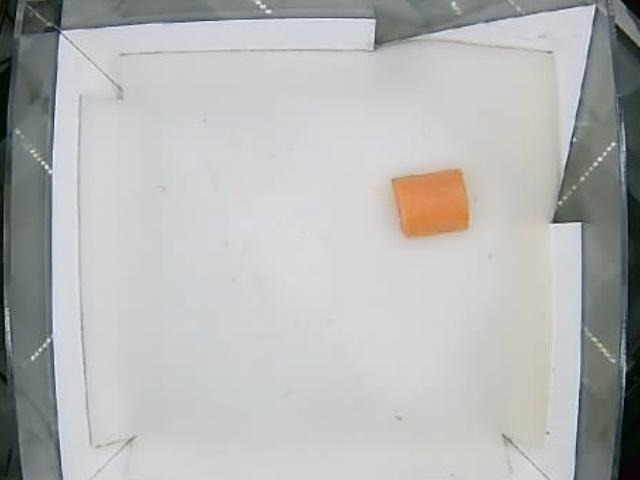Carrot: (388, 166, 469, 234)
